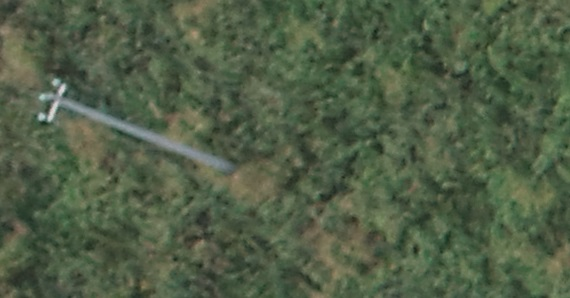opora: (34, 74, 240, 175)
